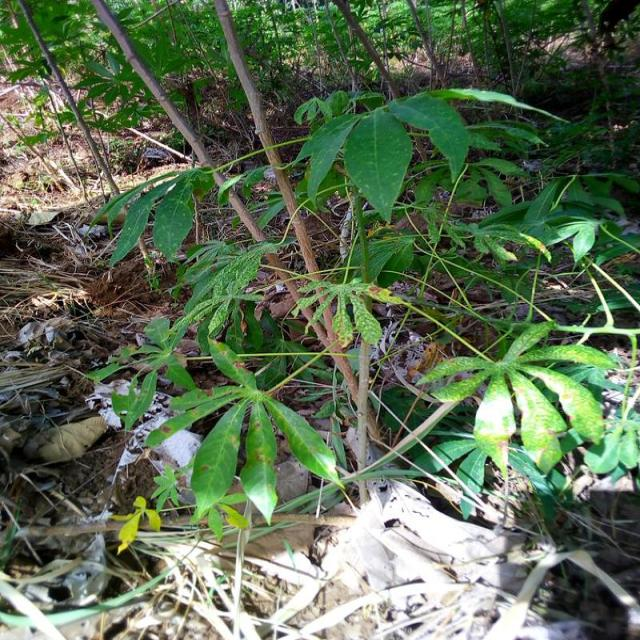cassava leaf: (342, 104, 412, 223)
